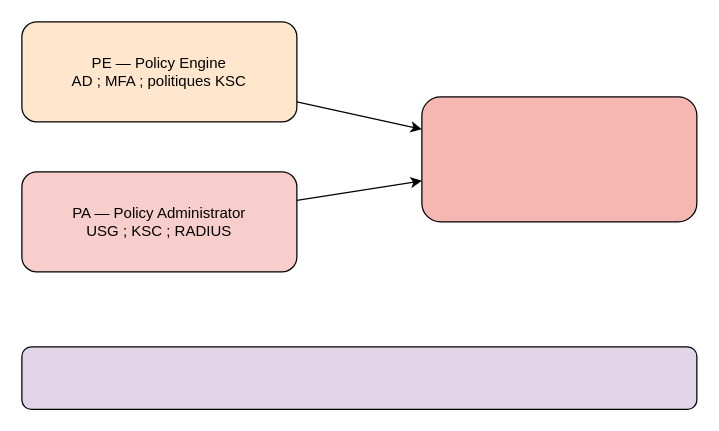
Some shapes in this 719 by 431 pixel diagram are drawn without their labels. Each missing label, with the centre of its shape:
PEP — Enforcement USG ; UniFi ; KES ; GPO: the point at 559,159
Sources : Wazuh (cible) ; inventaire ; journaux: the point at 359,377
